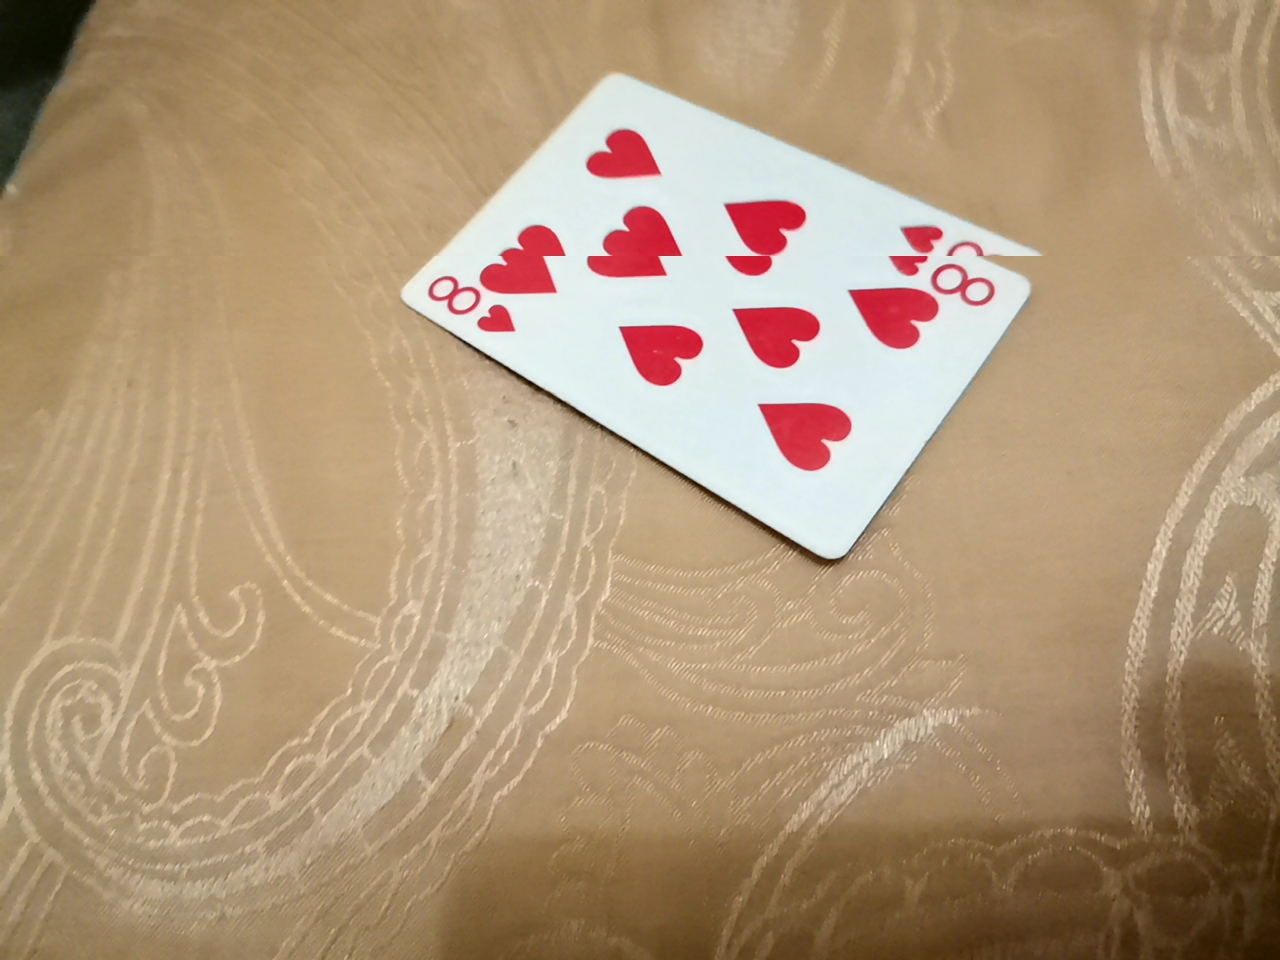hx 8: (428, 64, 1068, 539)
